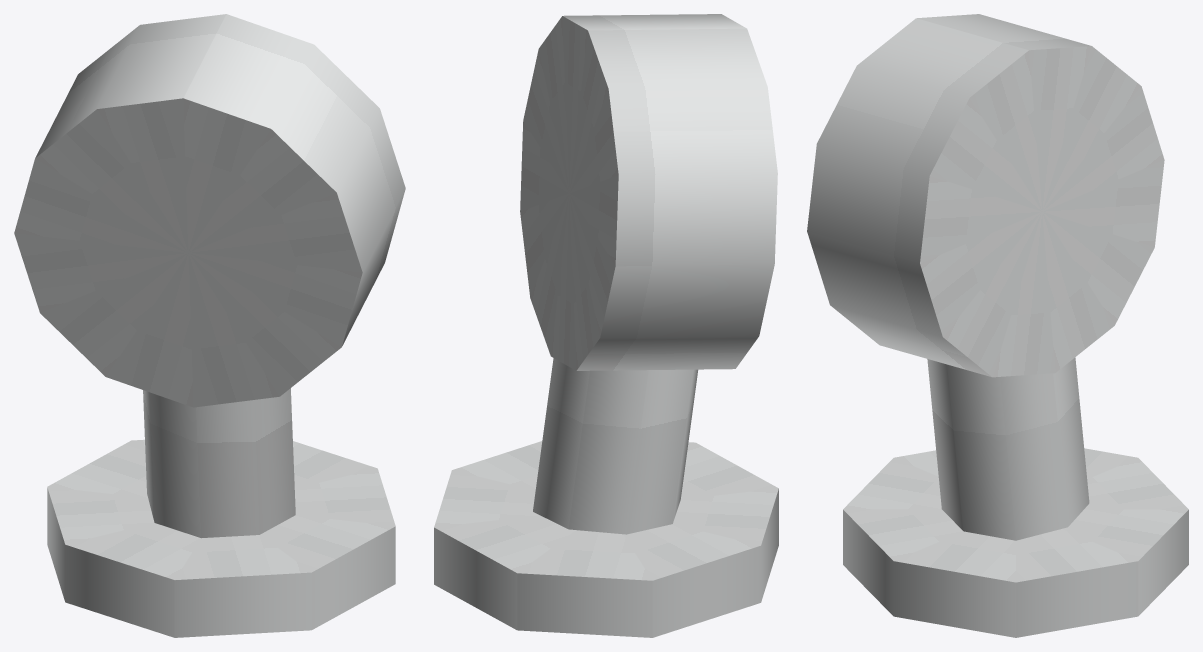
File: trusssignalarm_stub_135.obj
3 renders of one model, left to right at view 1: azimuth 30°, elevation 25°; view 2: azimuth 150°, elevation 25°; view 3: azimuth 270°, elevation 25°, orthographic. The views are drawn at different scales.
Visible parts, largest first — view 1: trusssignalarm_stub_135; view 2: trusssignalarm_stub_135; view 3: trusssignalarm_stub_135.
Boxes of the visible parts, x1,y1,x2,y2 form: trusssignalarm_stub_135: [14, 14, 405, 637]; trusssignalarm_stub_135: [434, 14, 778, 637]; trusssignalarm_stub_135: [807, 14, 1188, 637].
Size of the model in its own units: 0.3864 by 0.5806 by 0.3864.
